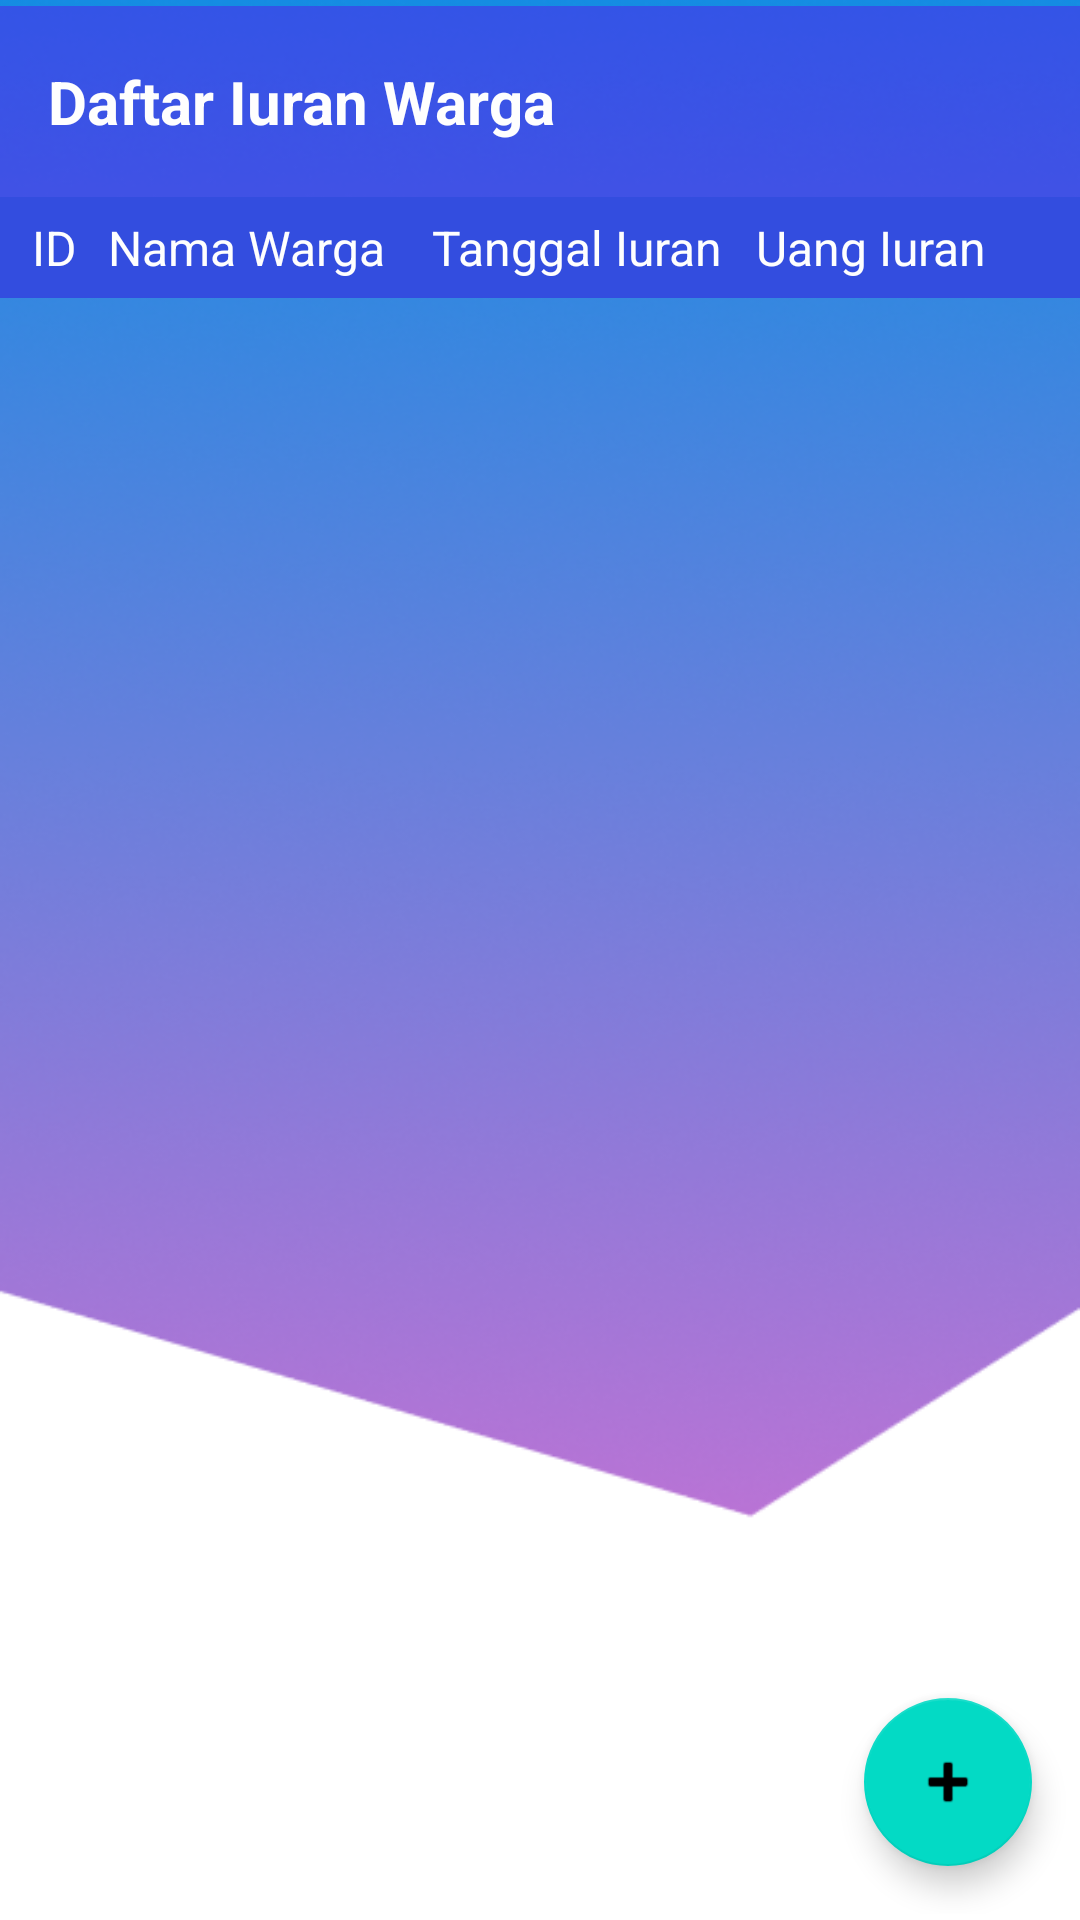

Icons on this 1080 × 1920 Android screen, each with the point to tap as point (x, y):
add: point (948, 1782)
